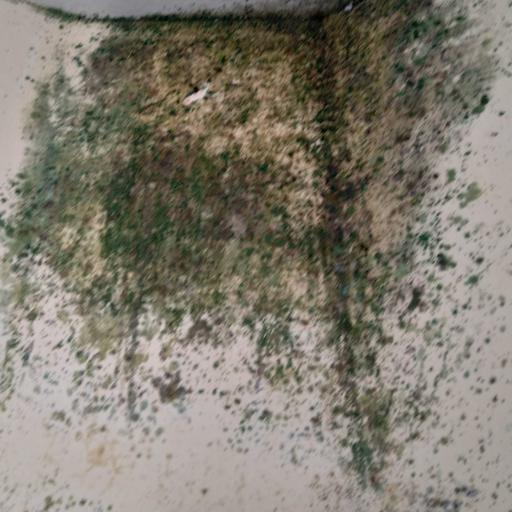algae: (34, 5, 481, 512)
